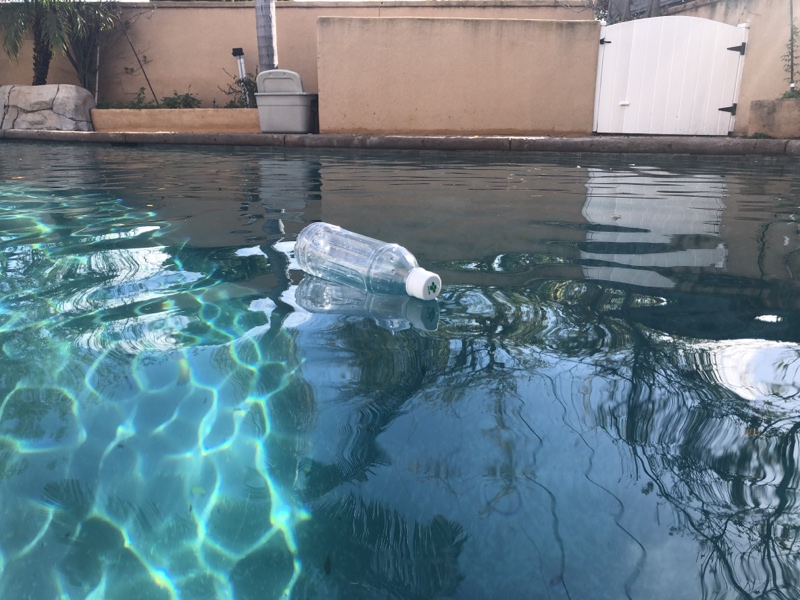Plastic Bottle: (290, 221, 446, 306)
